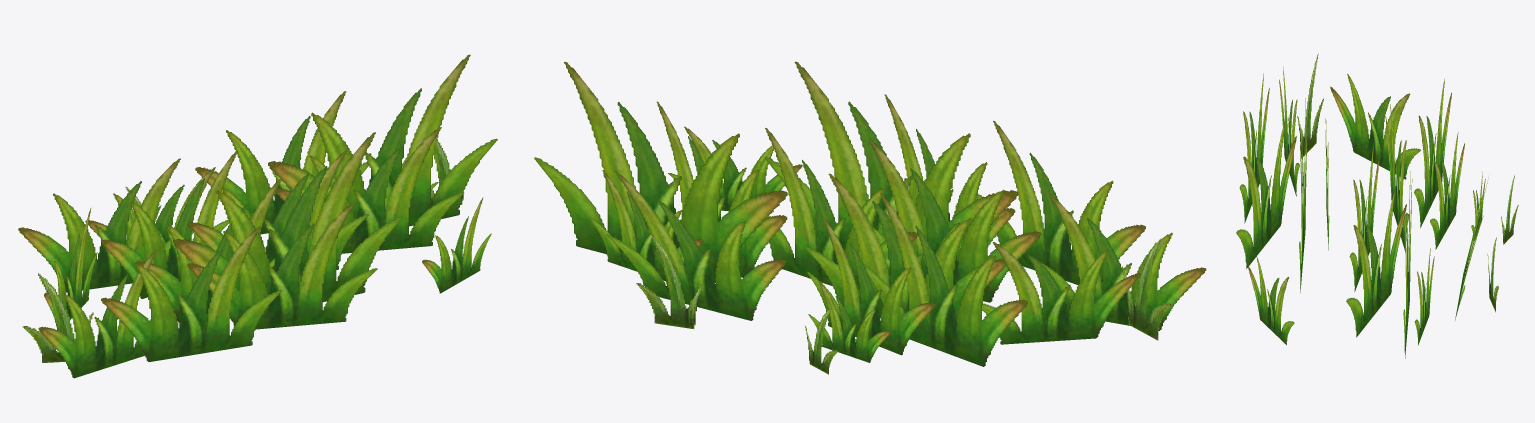
Rendered from obj_macoprgr07-04.glb.
The picture shows the model from 3 angles, left to right: view 1: azimuth 30°, elevation 25°; view 2: azimuth 150°, elevation 25°; view 3: azimuth 270°, elevation 25°; orthographic projection. The views are drawn at different scales.
Parts seen in each view (by area): view 1: part_0; view 2: part_0; view 3: part_0.
Part boxes in pixels (box(x1,y1,x2,y2)): part_0: box(18, 54, 497, 378); part_0: box(534, 61, 1206, 374); part_0: box(1236, 53, 1518, 358).
Size of the model in its own units: 2.57 by 1.05 by 1.23.
2 materials, 2 textured.
